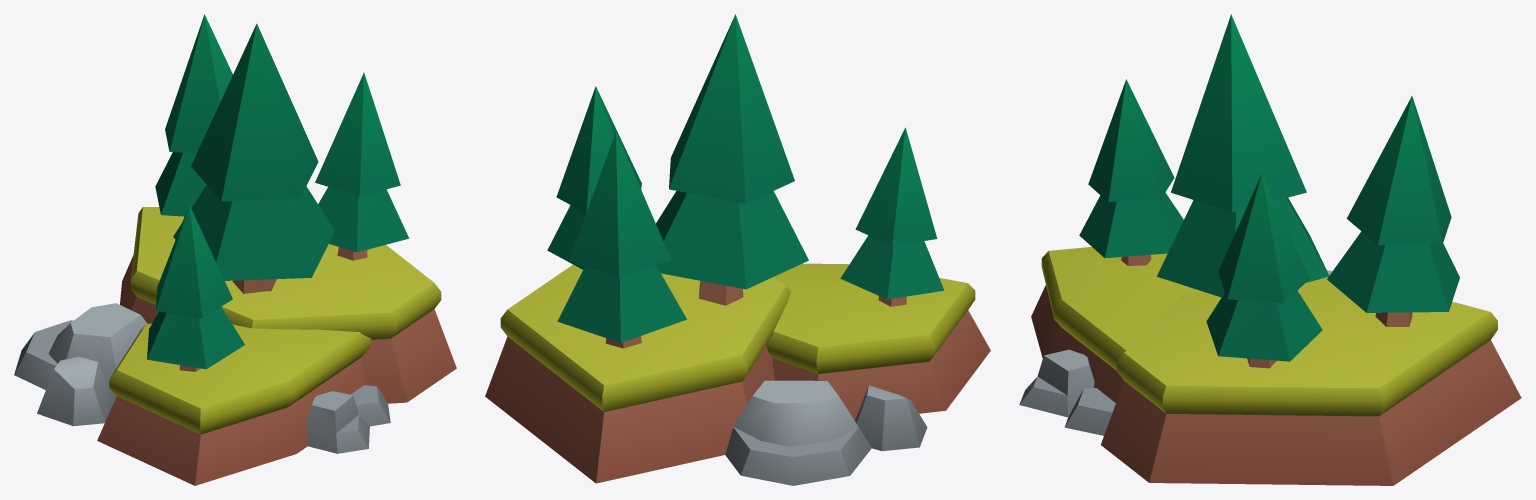
File: hills_B_trees.glb
The picture shows the model from 3 angles, left to right: view 1: azimuth 30°, elevation 25°; view 2: azimuth 150°, elevation 25°; view 3: azimuth 270°, elevation 25°; orthographic projection. The views are drawn at different scales.
Parts seen in each view (by area): view 1: hills_B_trees; view 2: hills_B_trees; view 3: hills_B_trees.
Boxes of the visible parts, left/top/right/bottom form: hills_B_trees: left=14, top=14, right=456, bottom=485; hills_B_trees: left=485, top=14, right=990, bottom=485; hills_B_trees: left=1019, top=14, right=1521, bottom=485.
Size of the model in its own units: 1.47 by 1.37 by 1.62.
1 material, 1 textured.
